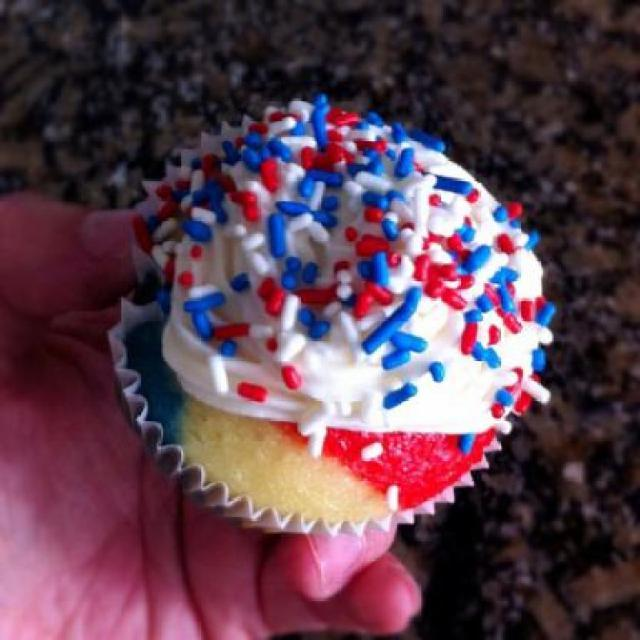Candy: (123, 90, 559, 526)
